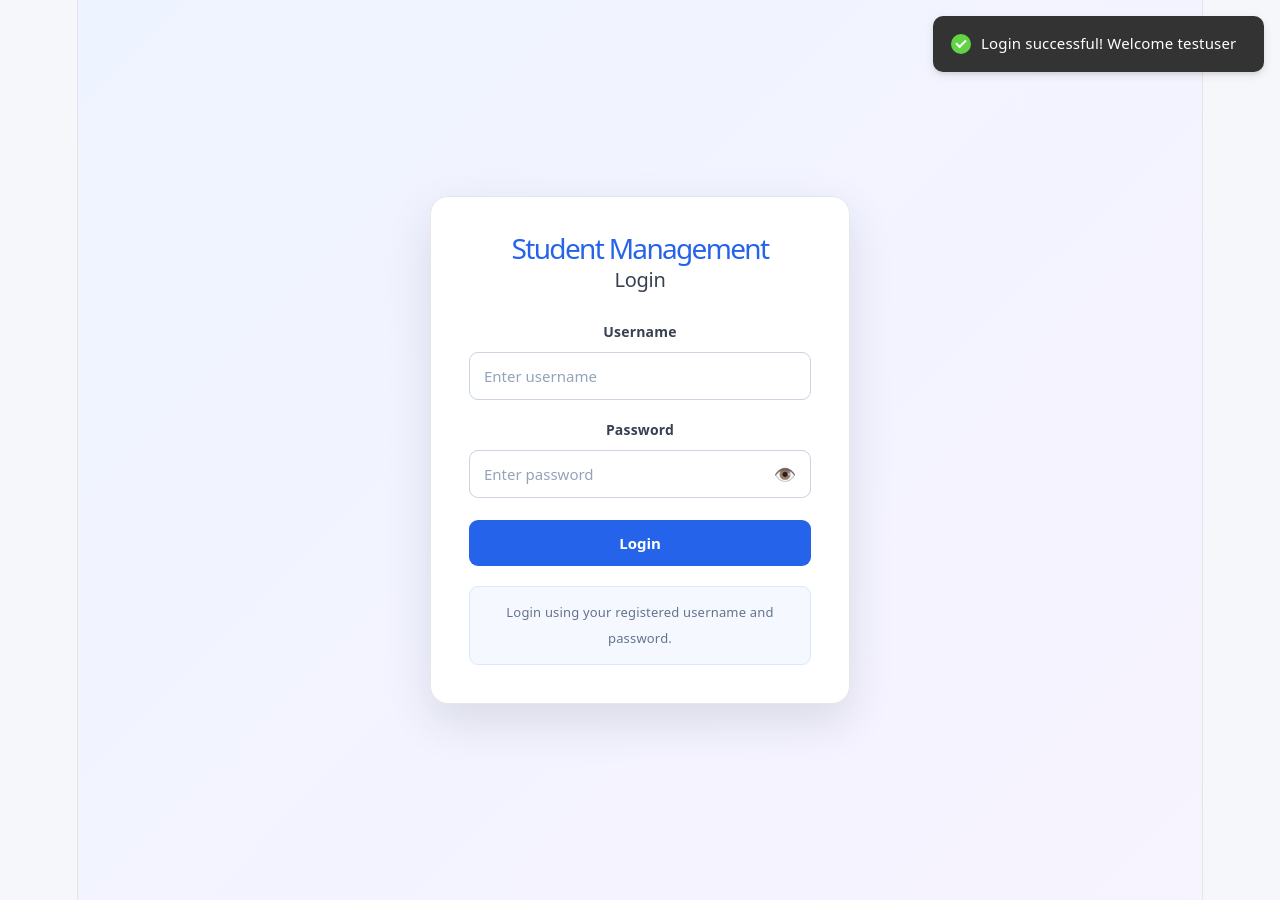
Test case: displays the Create New User form for Admin
In the field labelled "Username": (640, 376) [469, 352, 811, 400], type "testuser"
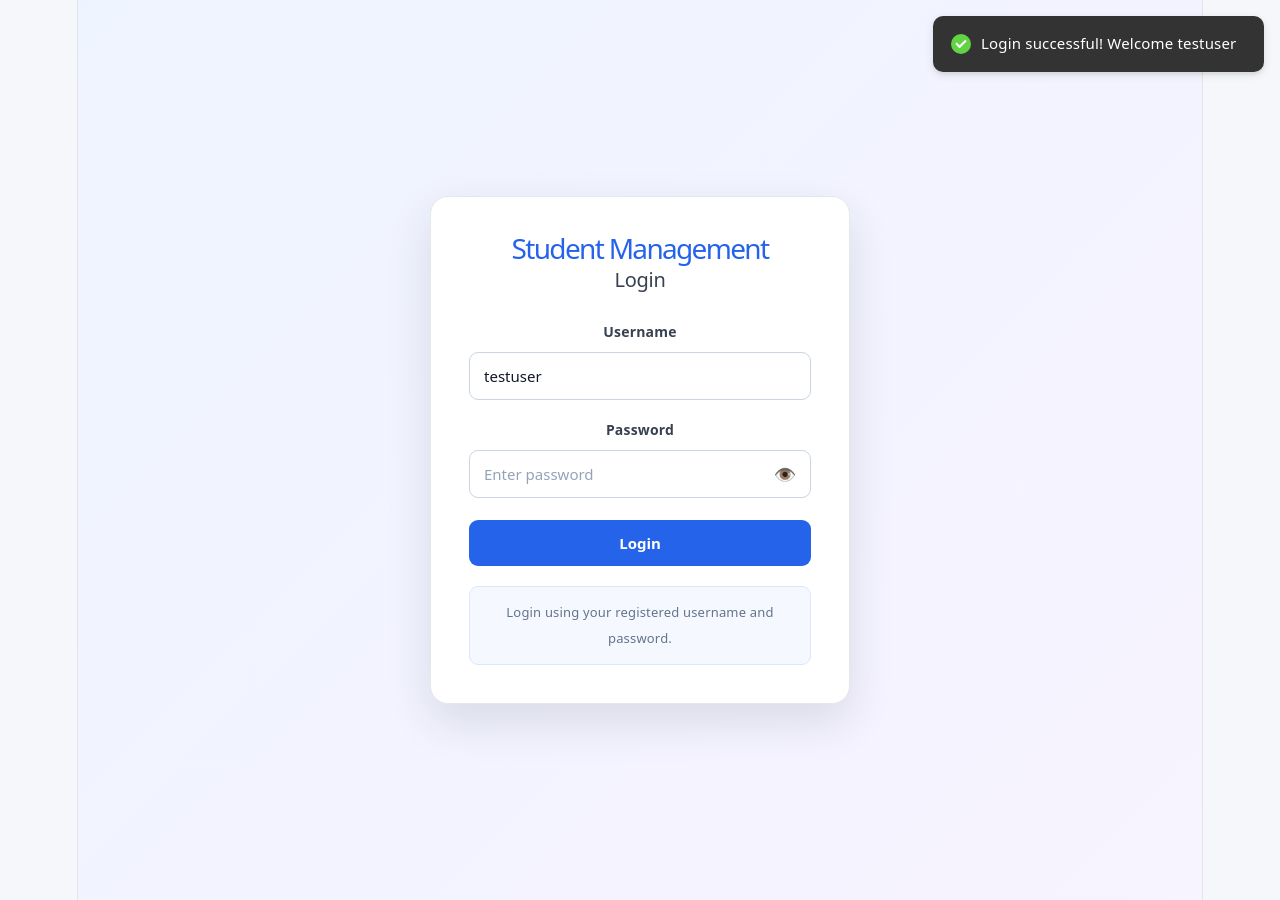
In the password field labelled "Password": (640, 474) [469, 450, 811, 498], type "correctpassword"
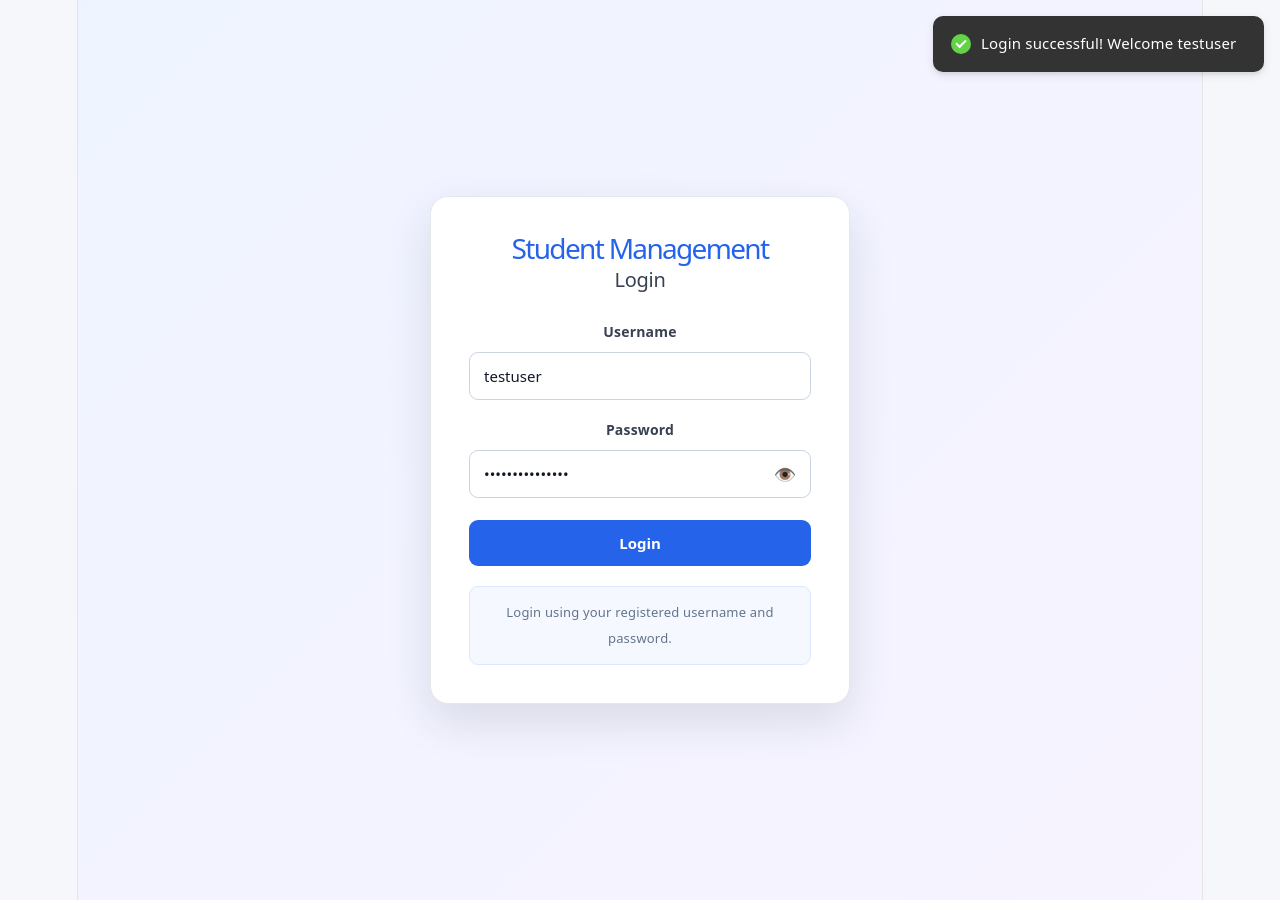
Click the button "Login": (640, 543) [469, 520, 811, 566]
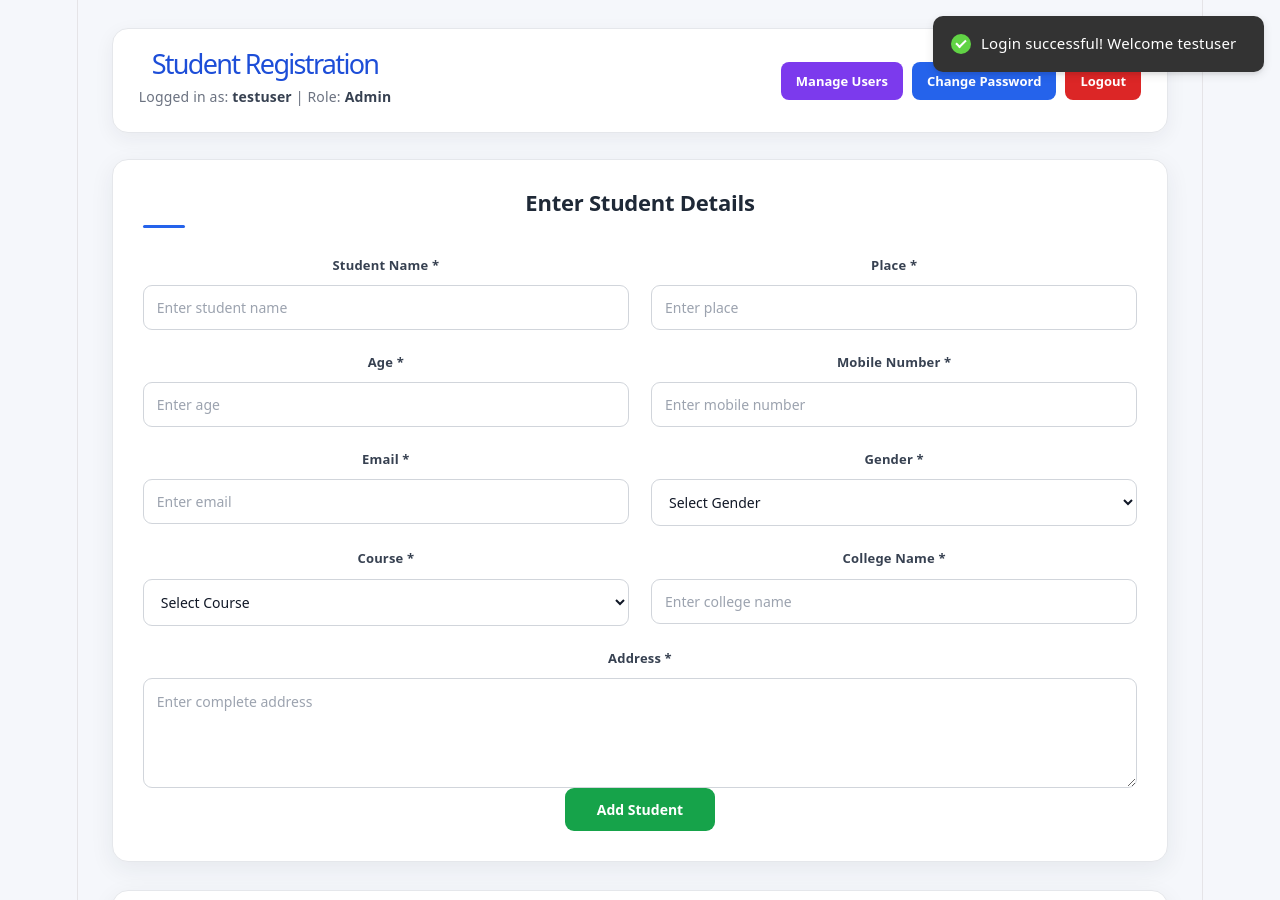
Expected: the heading "Student Registration" is shown, [139, 51, 391, 77]
Click the button "Manage Users": (842, 81) [781, 62, 903, 100]
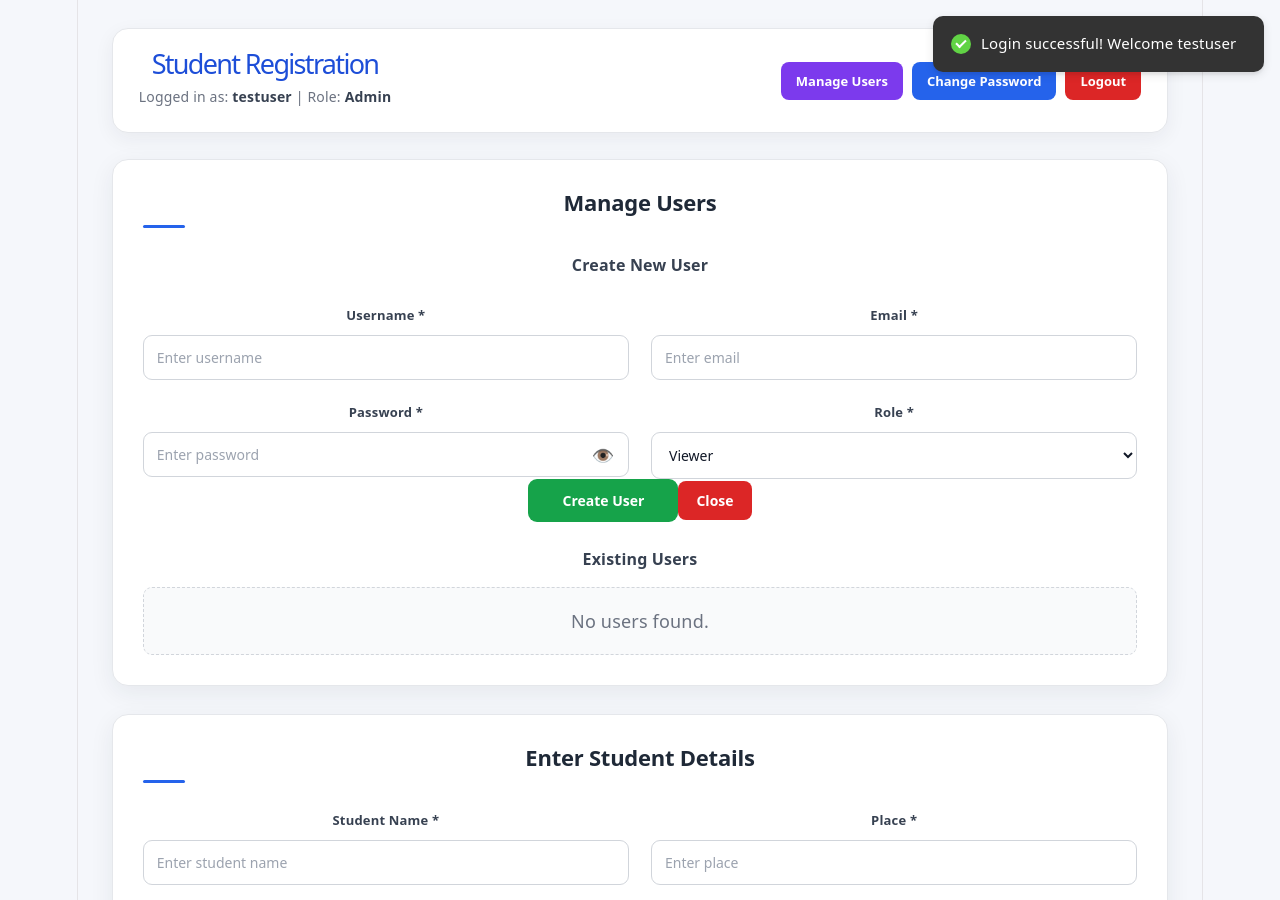
Expected: the heading "Manage Users" is shown, [564, 187, 716, 217]
Expected: the heading "Create New User" is shown, [572, 254, 708, 276]
Expected: the field with id "user-management-username" is shown, [143, 335, 629, 380]
